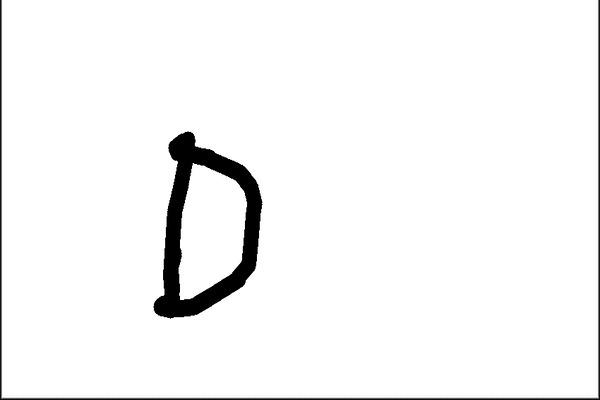D: (148, 126, 269, 318)
